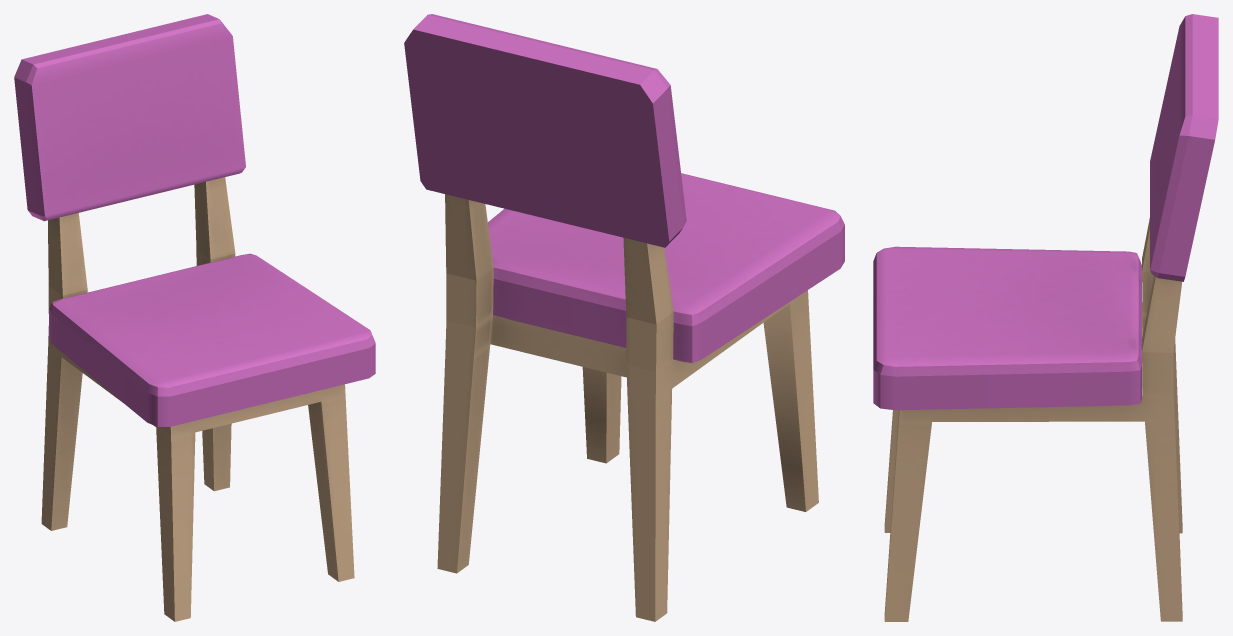
Rendered from Chiar_Purple.fbx.
3 renders of one model, left to right at view 1: azimuth 30°, elevation 25°; view 2: azimuth 150°, elevation 25°; view 3: azimuth 270°, elevation 25°, orthographic. The views are drawn at different scales.
Visible parts, largest first — view 1: Chair_Purple; view 2: Chair_Purple; view 3: Chair_Purple.
Part boxes in pixels (box(x1,y1,x2,y2)): Chair_Purple: box(14, 14, 375, 621); Chair_Purple: box(404, 14, 844, 621); Chair_Purple: box(873, 14, 1218, 621).
Size of the model in its own units: 48.17 by 93.48 by 57.54.
